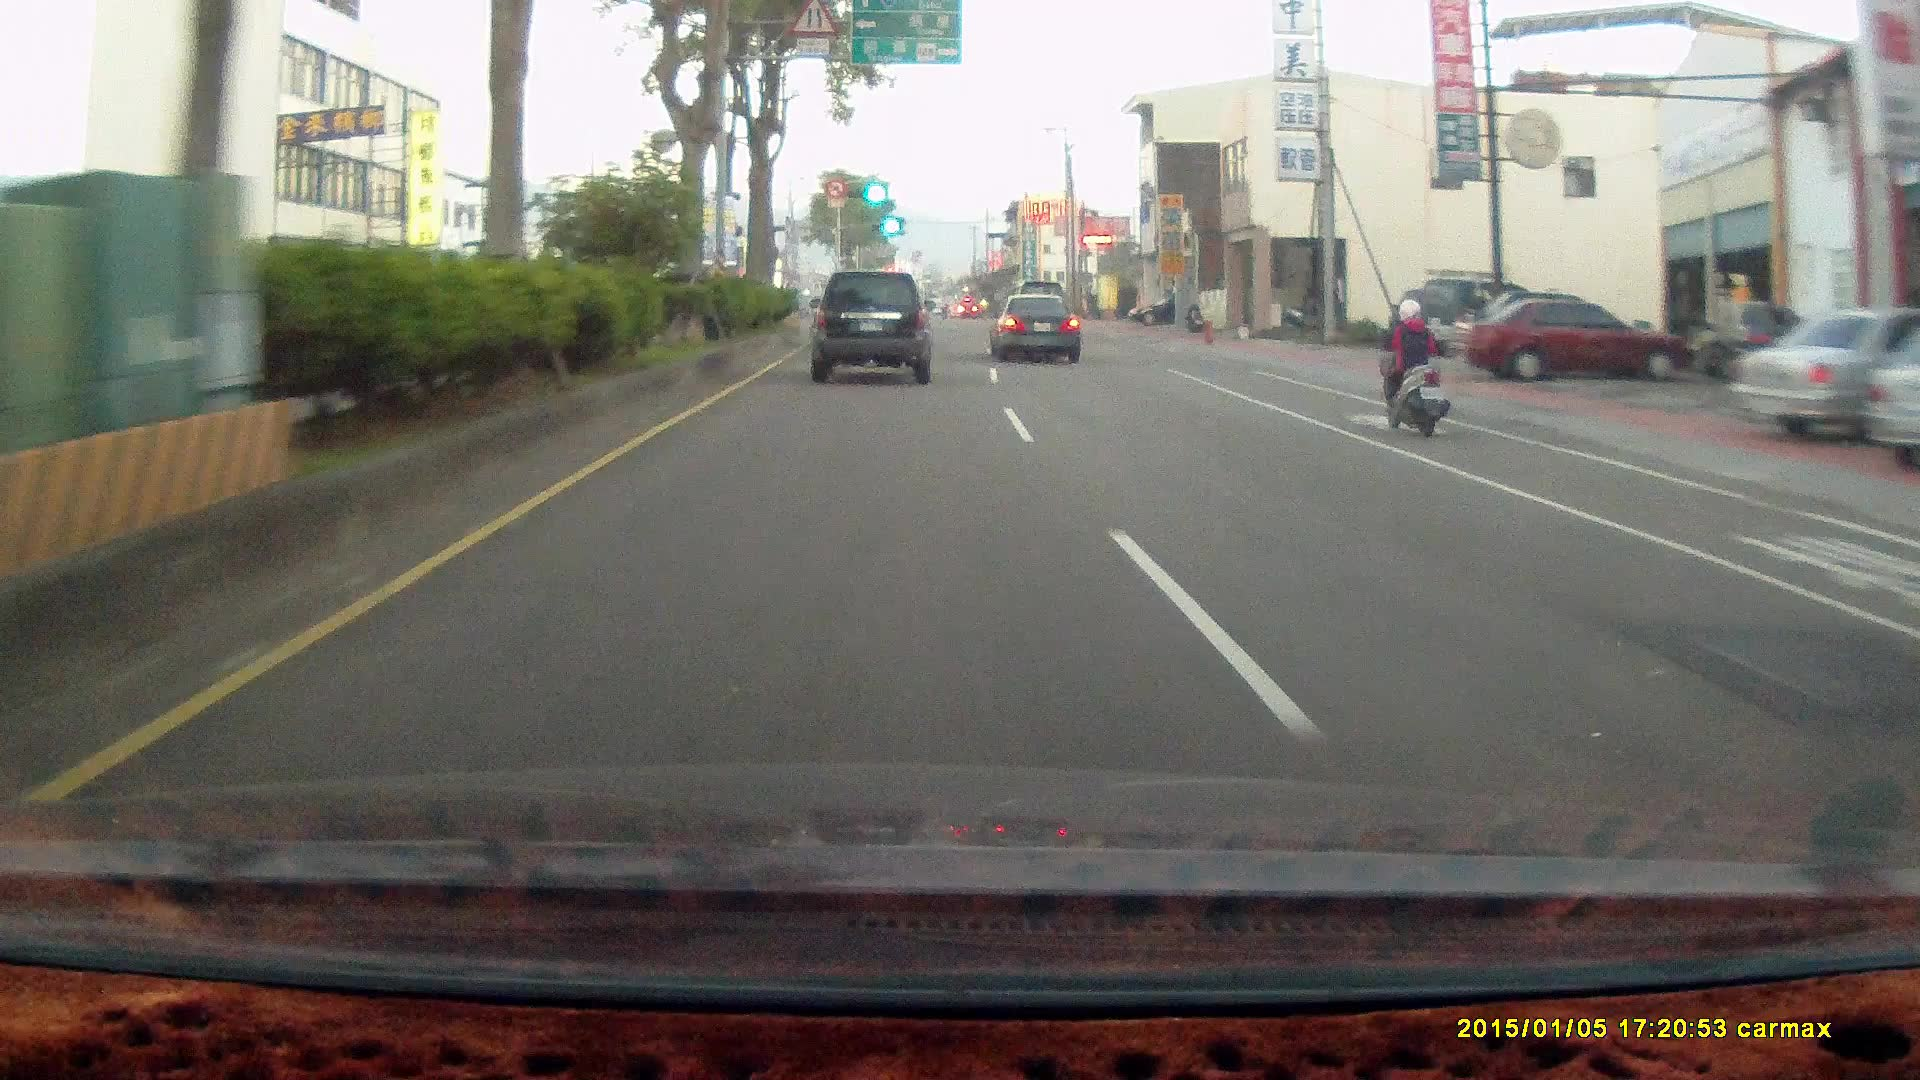rider: (1364, 289, 1463, 445), (1373, 292, 1448, 433)
vehicle: (1730, 308, 1920, 442), (1447, 296, 1686, 381), (1460, 297, 1682, 387), (811, 272, 935, 386), (811, 271, 934, 384), (1407, 273, 1547, 363), (1411, 277, 1542, 359), (1859, 315, 1920, 471), (1858, 315, 1919, 470), (1691, 302, 1803, 381), (986, 290, 1079, 362), (991, 293, 1084, 363), (1126, 293, 1202, 324)
